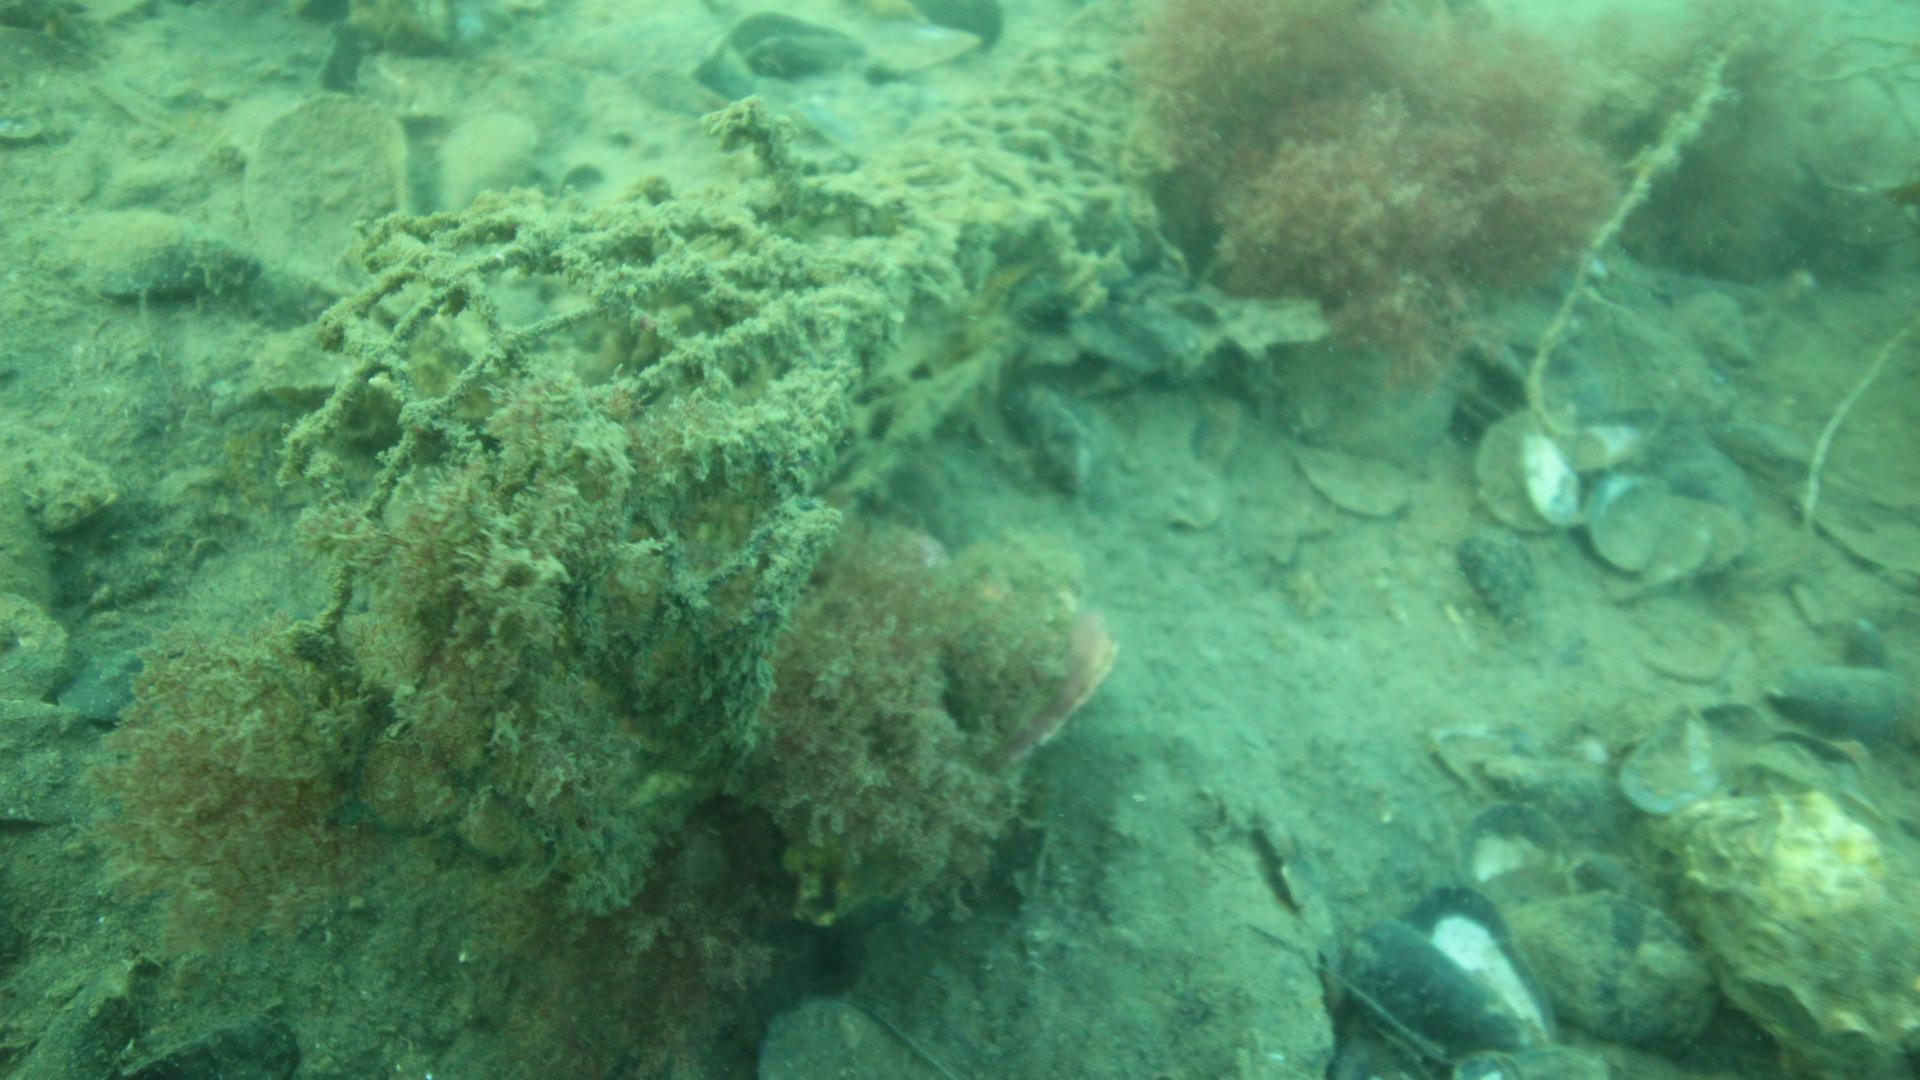fish net: (340, 0, 1153, 587)
